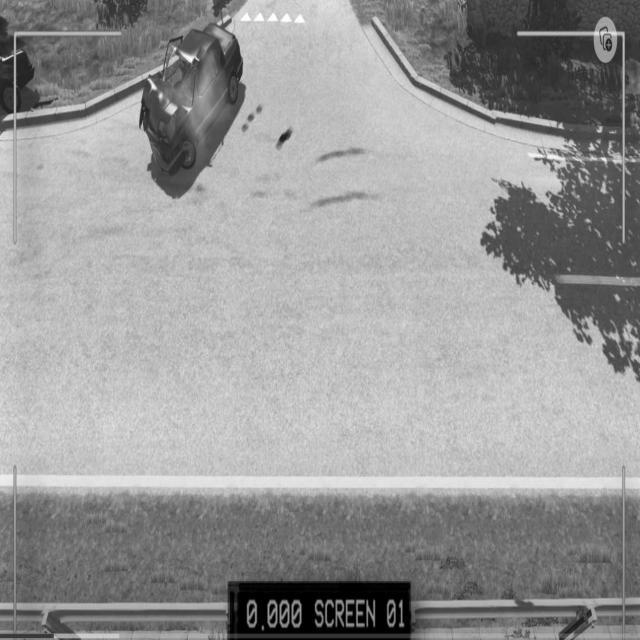accident: (140, 12, 245, 186)
